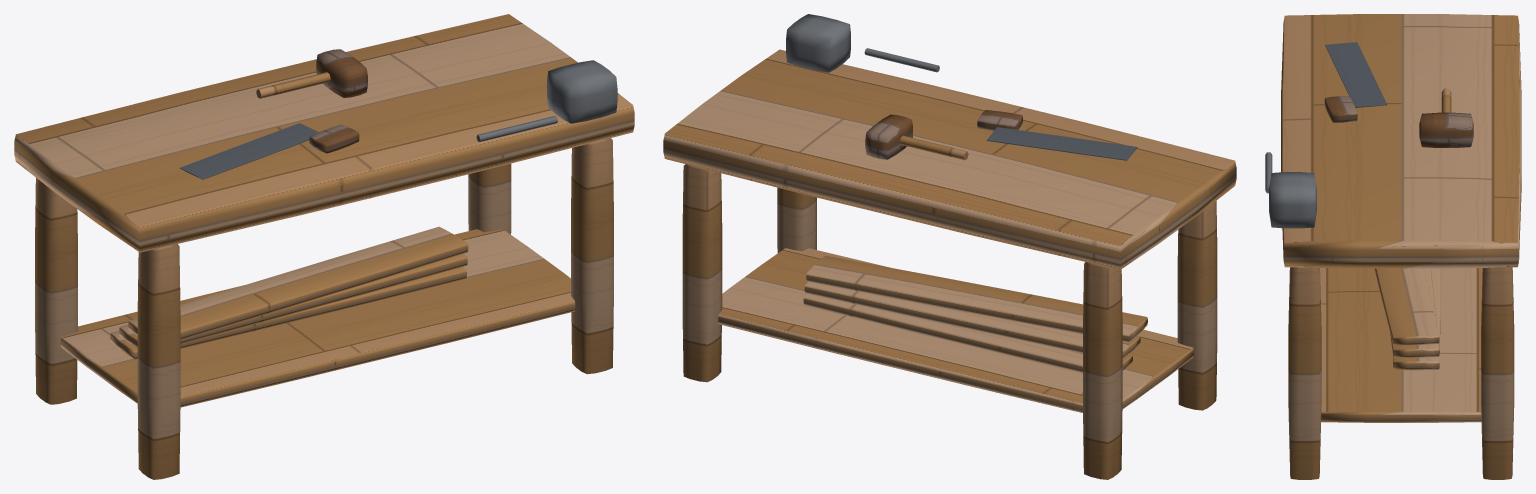
The model's file is station_workbench.glb.
3 renders of one model, left to right at view 1: azimuth 30°, elevation 25°; view 2: azimuth 150°, elevation 25°; view 3: azimuth 270°, elevation 25°, orthographic. The views are drawn at different scales.
Parts seen in each view (by area): view 1: station_workbench_wood, station_workbench; view 2: station_workbench_wood, station_workbench; view 3: station_workbench_wood, station_workbench.
Boxes of the visible parts, box(x1,y1,x2,y2) form: station_workbench_wood: box(14, 14, 634, 479); station_workbench: box(179, 49, 617, 179); station_workbench_wood: box(663, 49, 1236, 479); station_workbench: box(786, 14, 1137, 160); station_workbench_wood: box(1281, 14, 1521, 479); station_workbench: box(1265, 42, 1473, 228).
Size of the model in its own units: 1.8 by 1.05 by 0.852.
Materials: 3 (2 with a texture image).
